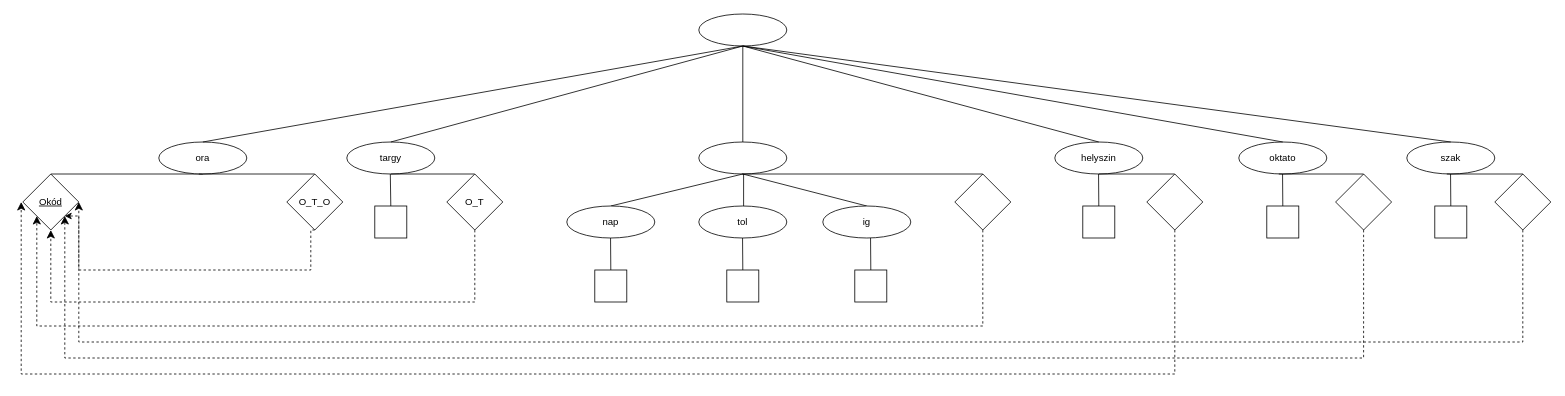
Some shapes in this 1565 by 396 pixel diagram are drawn without their labels. Each missing label, with the centre of its shape:
"CV72CL_orarend" belongs at pixel 742 29.
"idopont" belongs at pixel 742 157.
"O_H" belongs at pixel 1174 201.
"O_I" belongs at pixel 982 201.
"O_O" belongs at pixel 1363 201.
"O_SZ" belongs at pixel 1522 201.
